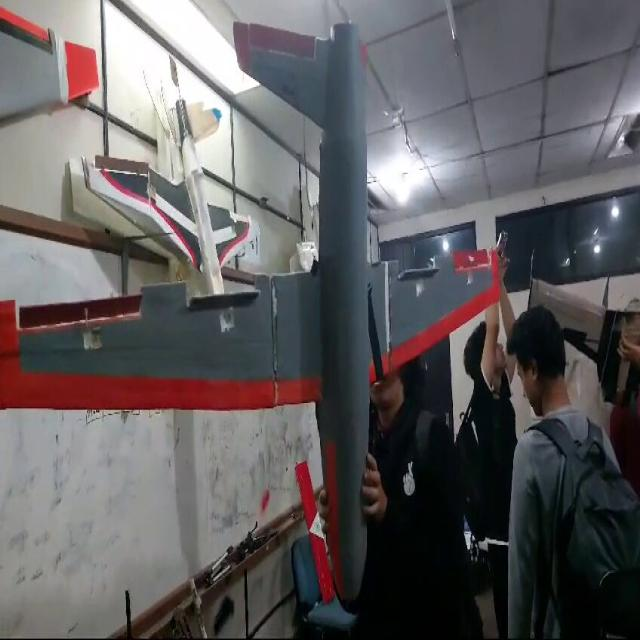plane: (0, 16, 509, 612)
